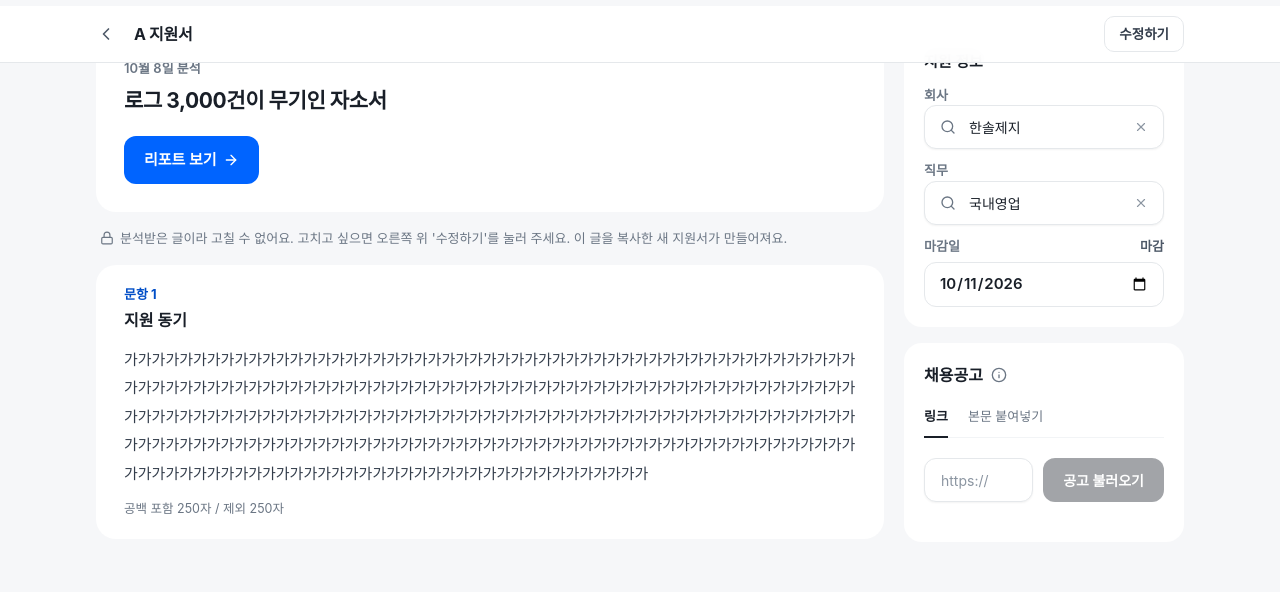
분석이 끝나 잠긴 지원서 › 새 지원서를 못 만들면 알리고 이 화면에 남는다
Click the button "수정하기": (1144, 34) [1104,16,1184,52]
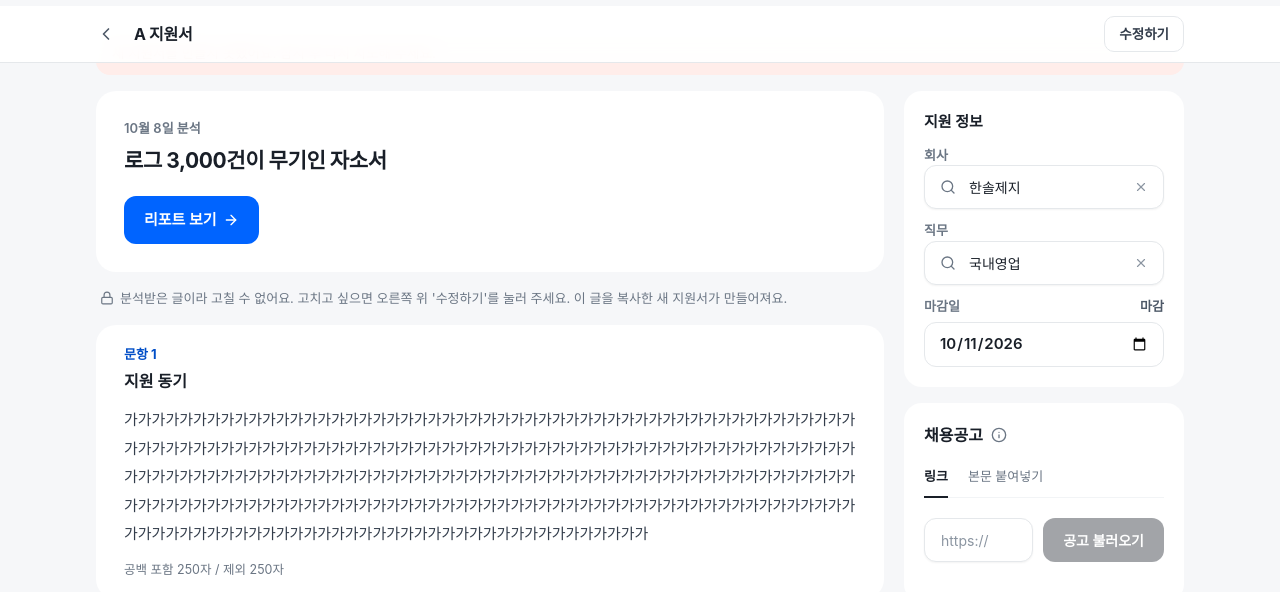
Now the text "새 지원서를 만들지 못했어요. 잠시 후 다시 시도해 주세요." is shown, box [96,31,1184,75]
